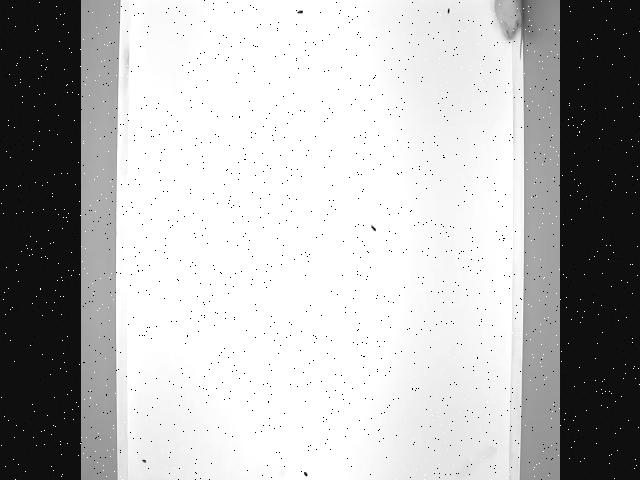Tikus: (489, 0, 527, 63)
